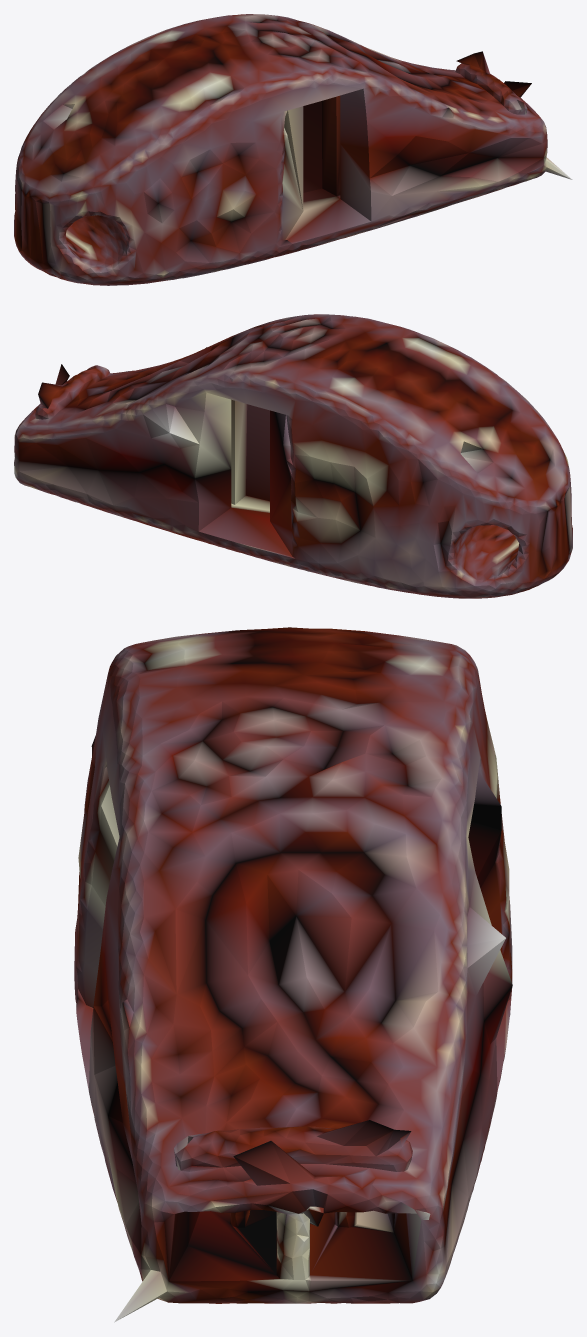
The model's file is whistle_decemeted_final200.obj.
3 views of the same model, one above another, from view 1: azimuth 30°, elevation 25°; view 2: azimuth 150°, elevation 25°; view 3: azimuth 270°, elevation 25° (orthographic). The views are drawn at different scales.
Bounding box in the file's own units: 1.92 × 0.6485 × 0.7269.
